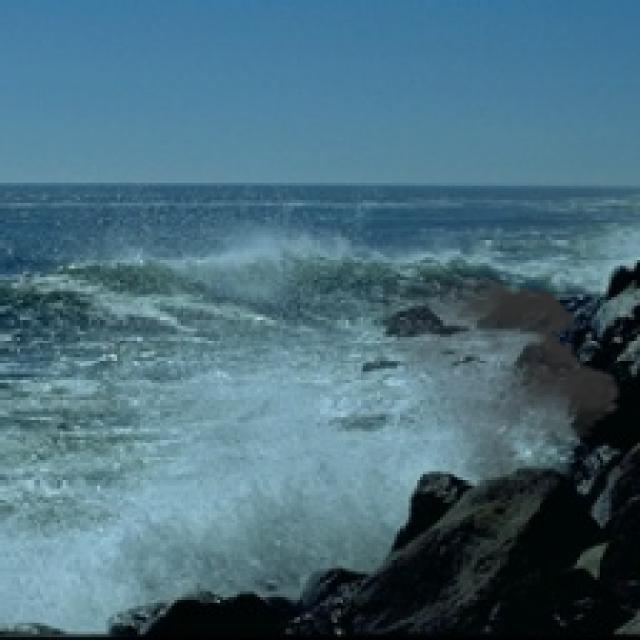Smoke: (363, 268, 631, 488)
